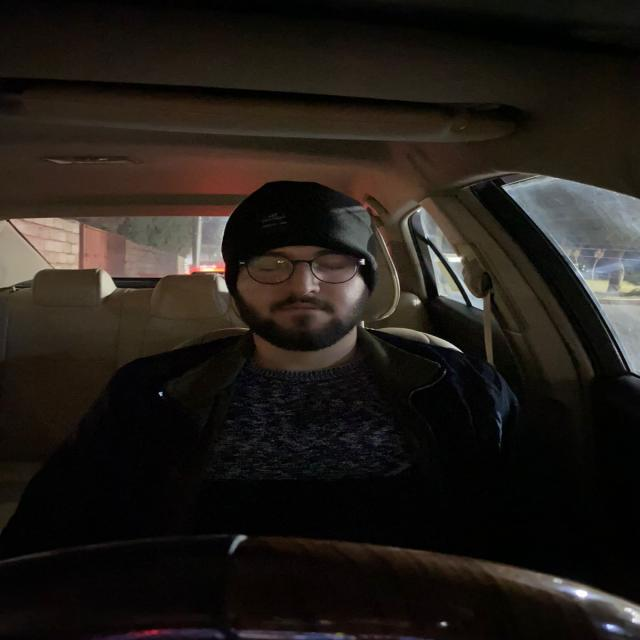drowsy: (220, 178, 381, 356)
